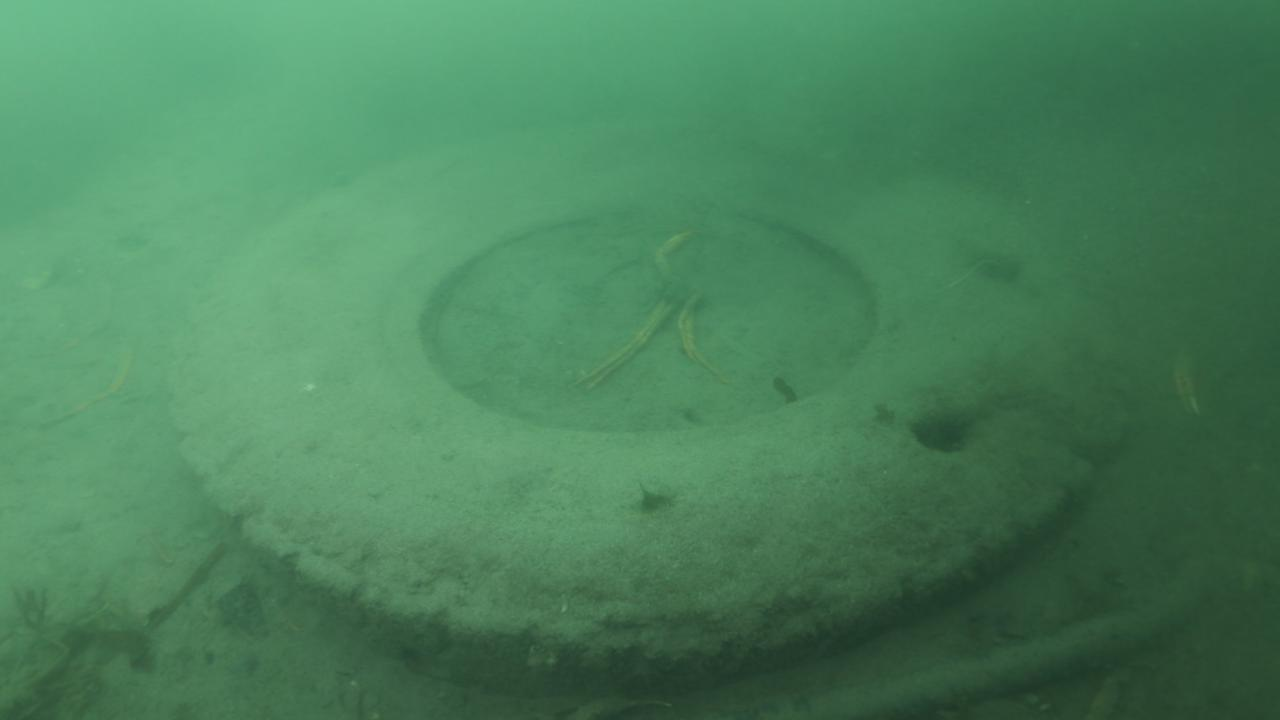tire: (166, 119, 1121, 693)
